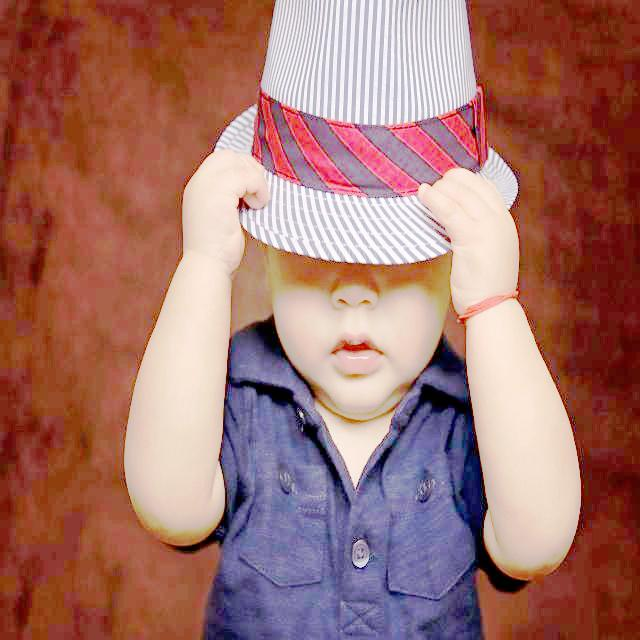TOPI: (213, 0, 520, 265)
